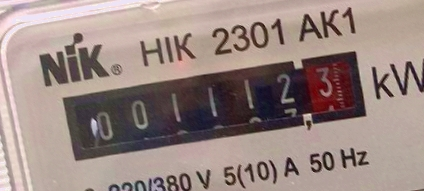0: (126, 93, 153, 133), (91, 104, 117, 142)
1: (164, 85, 187, 125), (202, 80, 221, 120), (239, 73, 258, 112)
2: (272, 68, 298, 107)
3: (312, 62, 335, 99)
screen: (54, 45, 375, 165)
